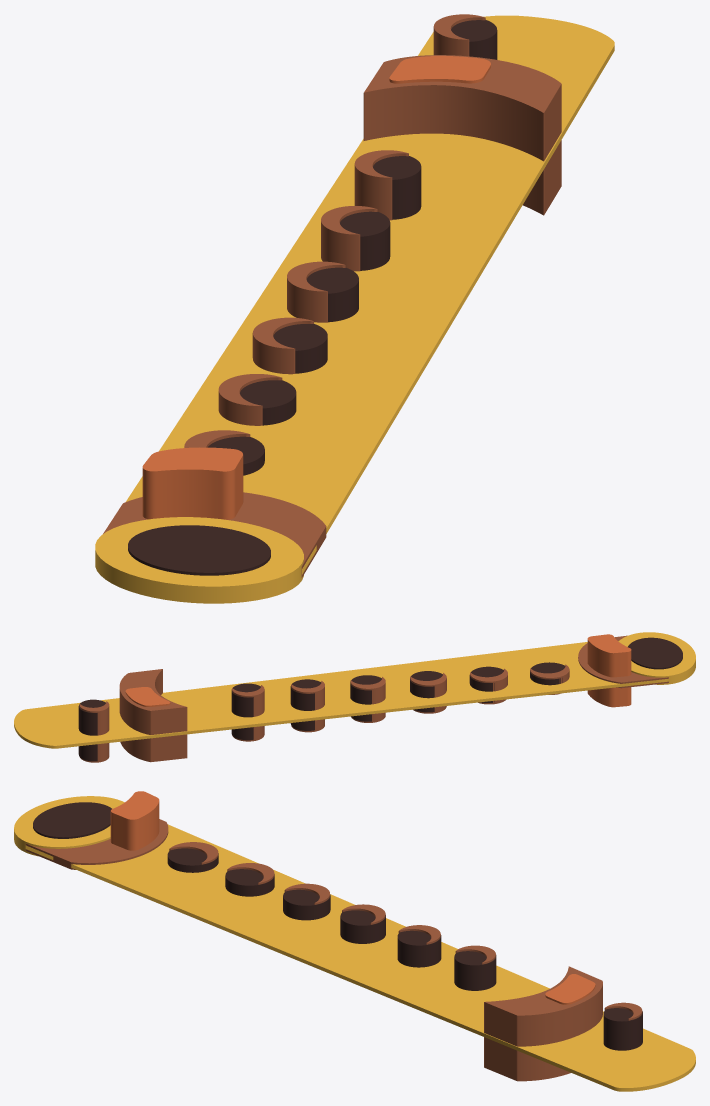
The model's file is emoji_u1fa88.glb.
3 renders of one model, top to bottom at view 1: azimuth 30°, elevation 25°; view 2: azimuth 150°, elevation 25°; view 3: azimuth 270°, elevation 25°, orthographic. The views are drawn at different scales.
Parts seen in each view (by area): view 1: emoji_u1fa88; view 2: emoji_u1fa88; view 3: emoji_u1fa88.
Boxes of the visible parts, <box> form: emoji_u1fa88: <box>95,14,614,603</box>; emoji_u1fa88: <box>14,632,695,762</box>; emoji_u1fa88: <box>14,791,695,1091</box>.
Bounding box in the file's own units: 0.0339 × 0.0038 × 0.0338.
